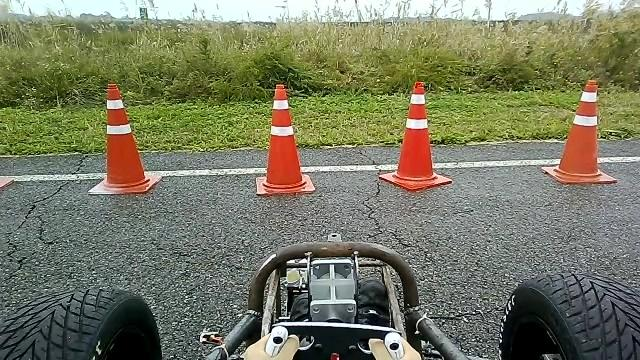red cone: (87, 82, 162, 195), (378, 80, 452, 190), (541, 79, 618, 184), (255, 83, 315, 195)
